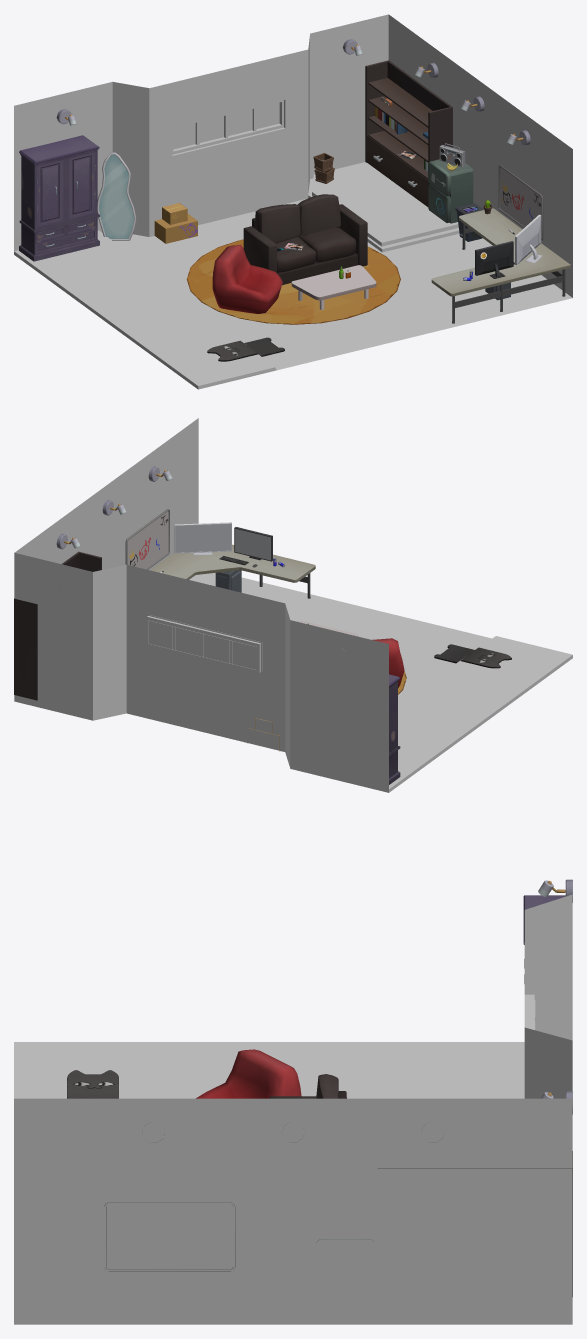
File: HangOut.fbx
3 renders of one model, top to bottom at view 1: azimuth 30°, elevation 25°; view 2: azimuth 150°, elevation 25°; view 3: azimuth 270°, elevation 25°, orthographic. The views are drawn at different scales.
Parts seen in each view (by area): view 1: Walls, Object005, Props_Big, Object003, Object006, Props_Small, Object004; view 2: Walls, Object005, Props_Big, Object004, Object003, Props_Small; view 3: Walls, Object005, Props_Big, Object006, Props_Small.
Boxes of the visible parts, bbox=[...] form: Walls: bbox=[14, 14, 572, 297]; Object005: bbox=[14, 162, 572, 389]; Props_Big: bbox=[97, 60, 570, 361]; Object003: bbox=[19, 135, 99, 261]; Object006: bbox=[243, 194, 367, 284]; Props_Small: bbox=[56, 39, 530, 280]; Object004: bbox=[475, 214, 542, 278]; Walls: bbox=[14, 418, 388, 792]; Object005: bbox=[93, 573, 572, 792]; Props_Big: bbox=[14, 509, 511, 700]; Object004: bbox=[174, 522, 272, 561]; Object003: bbox=[389, 674, 400, 784]; Props_Small: bbox=[56, 466, 344, 751]; Walls: bbox=[14, 894, 572, 1324]; Object005: bbox=[14, 1042, 524, 1098]; Props_Big: bbox=[67, 1049, 572, 1296]; Object006: bbox=[269, 1074, 346, 1098]; Props_Small: bbox=[144, 879, 572, 1242].
Bounding box in the file's own units: 870 × 331 × 740.
